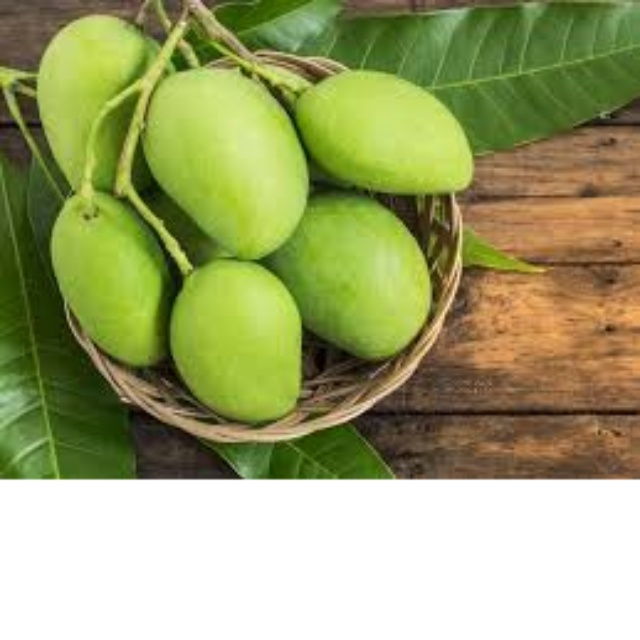thanh_long: (144, 66, 314, 260), (163, 253, 313, 427), (299, 59, 479, 194), (44, 195, 175, 369)
